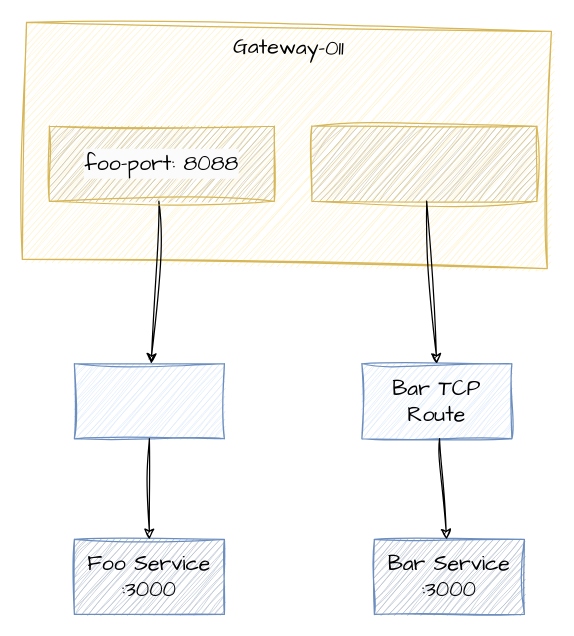
This 574x636 diagram has some shape labels left out. The centre of each missing label's shape, as x and y in pixels:
"bar-port: 8089" belongs at point 424,163.
"Foo TCP Route" belongs at point 148,400.
